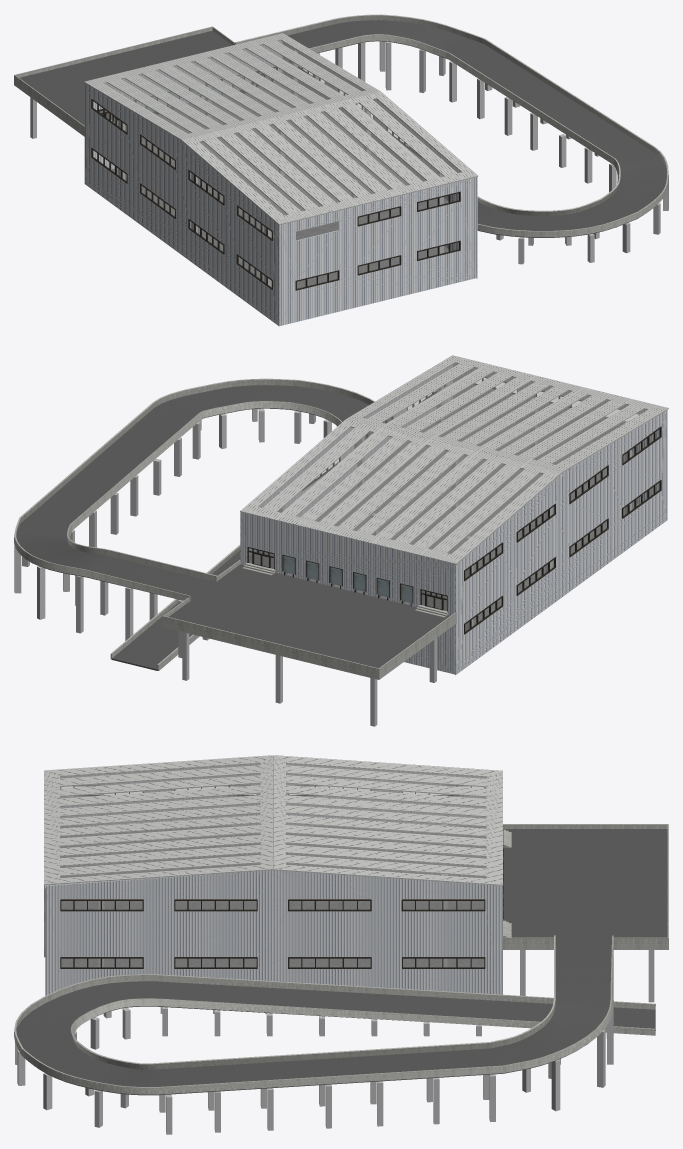
3 renders of one model, top to bottom at view 1: azimuth 30°, elevation 25°; view 2: azimuth 150°, elevation 25°; view 3: azimuth 270°, elevation 25°, orthographic. The views are drawn at different scales.
Parts seen in each view (by area): view 1: Box022, Box021, Box008, Box019, Line1854, dangban, Box004, Box023, Box545, Plane002, Plane001, Box002 (+4 smaller); view 2: Box019, Box021, Box022, Line1854, Box023, Box005, dangban, Box004, Box545, Plane001, Plane002, Box588 (+4 smaller); view 3: Box002, Line1854, Box022, Box019, Box023, dangban, Box545, Box004, Plane001, Plane002, Box021, Box001 (+3 smaller).
Boxes of the visible parts, x1,y1,x2,y2 form: Box022: [181, 91, 478, 224]; Box021: [84, 83, 279, 326]; Box008: [279, 177, 477, 325]; Box019: [84, 33, 379, 140]; Line1854: [288, 20, 666, 237]; dangban: [235, 14, 668, 237]; Box004: [113, 81, 448, 240]; Box023: [19, 30, 270, 125]; Box545: [312, 41, 668, 264]; Plane002: [200, 99, 460, 215]; Plane001: [104, 40, 364, 133]; Box002: [282, 42, 477, 278]; Box019: [240, 419, 562, 564]; Box021: [455, 410, 667, 674]; Box022: [346, 355, 668, 472]; Line1854: [16, 385, 390, 670]; Box023: [169, 564, 450, 668]; Box005: [240, 511, 455, 674]; dangban: [14, 378, 391, 670]; Box004: [249, 408, 637, 611]; Box545: [14, 408, 331, 657]; Plane001: [259, 427, 542, 553]; Plane002: [364, 363, 646, 464]; Box588: [163, 616, 378, 679]; Box002: [45, 870, 502, 995]; Line1854: [16, 941, 655, 1095]; Box022: [44, 755, 273, 885]; Box019: [273, 755, 502, 885]; Box023: [503, 829, 667, 940]; dangban: [14, 935, 655, 1094]; Box545: [15, 1007, 613, 1134]; Box004: [60, 826, 486, 909]; Plane001: [286, 763, 486, 878]; Plane002: [60, 764, 260, 877]; Box021: [60, 756, 486, 825]; Box001: [61, 958, 484, 967].
Size of what is drawn, in the model's own units: 10056 by 2676 by 11402.
